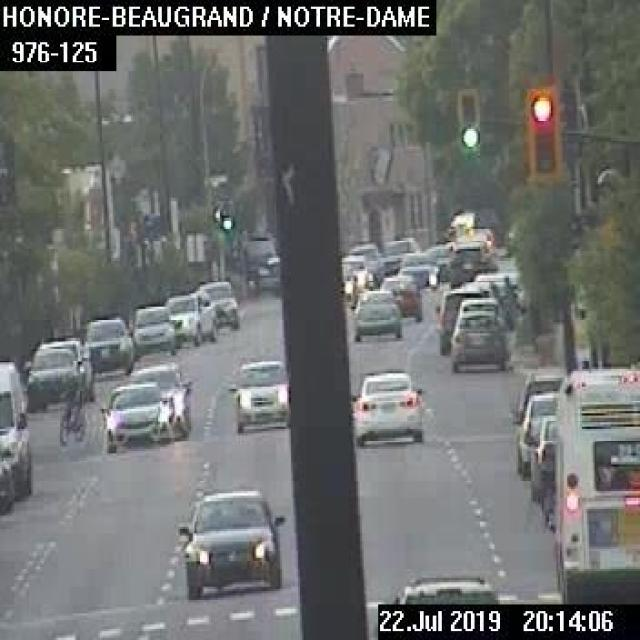bus: (551, 366, 638, 602)
cyclist: (56, 368, 86, 443)
vehicle: (174, 486, 284, 596), (351, 366, 425, 444), (126, 362, 192, 438), (98, 381, 168, 451), (228, 356, 290, 431), (0, 359, 31, 494), (432, 288, 488, 354), (36, 337, 93, 401), (449, 309, 507, 369), (512, 391, 554, 472), (161, 289, 215, 344), (392, 571, 494, 600), (509, 373, 564, 424), (348, 288, 401, 340), (84, 317, 133, 373), (522, 414, 554, 499), (28, 347, 76, 399), (130, 304, 176, 358), (446, 241, 497, 286), (376, 274, 420, 321), (198, 279, 238, 328), (380, 234, 418, 274), (397, 250, 439, 286), (347, 242, 381, 284), (426, 244, 450, 278), (252, 260, 279, 290), (456, 296, 503, 312)
